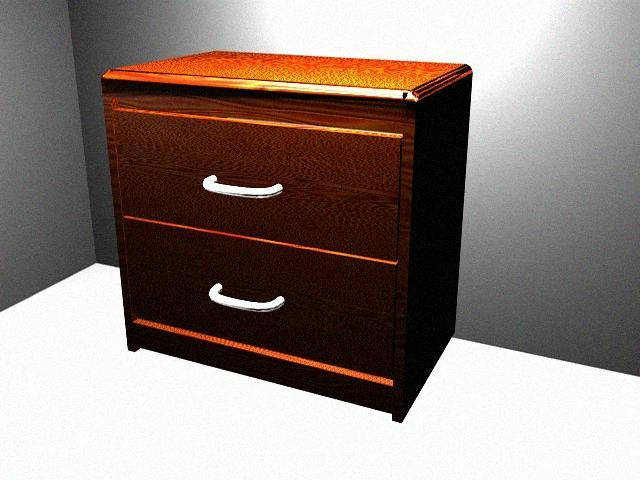cabinet_door: (118, 122, 400, 240), (129, 239, 393, 354)
handle: (196, 167, 291, 213), (205, 274, 294, 322)
